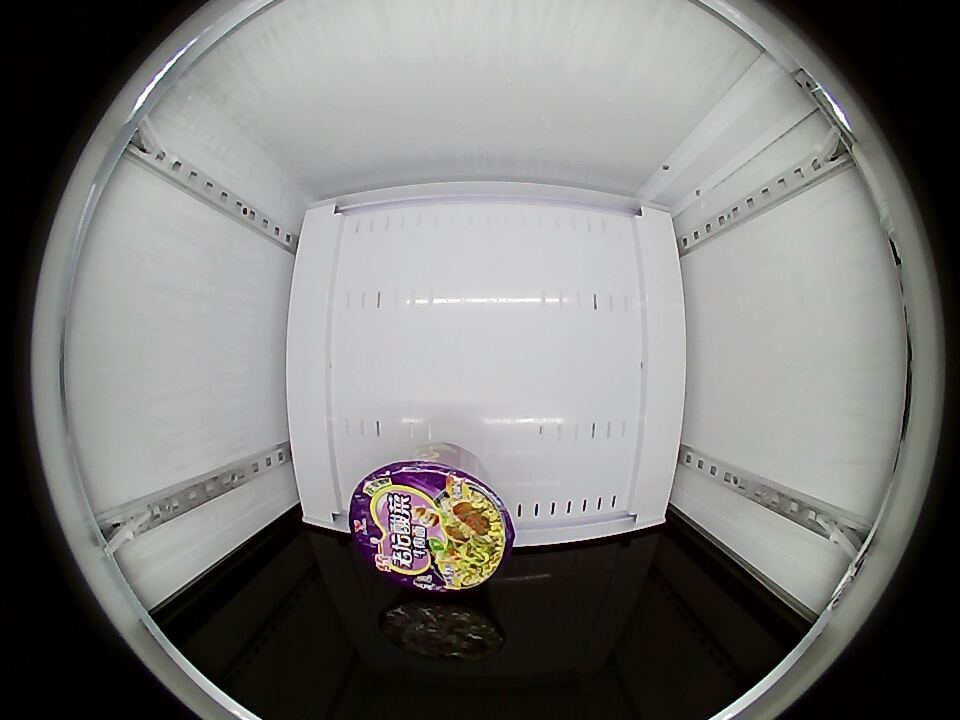laotansuancai: (349, 458, 514, 593)
